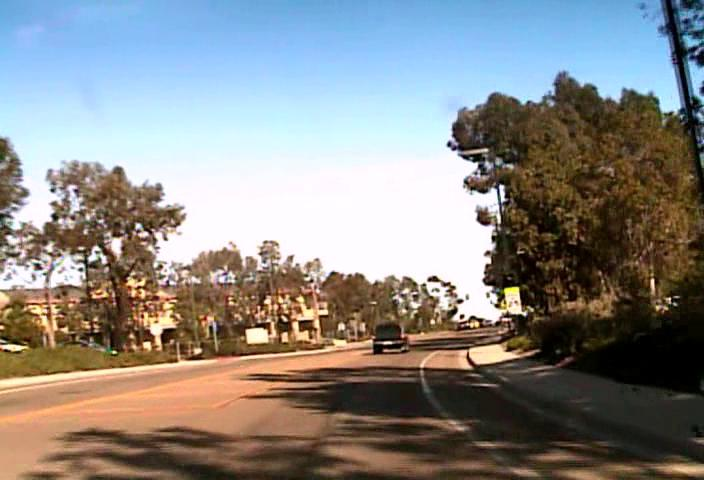schoolSpeedLimit25: (503, 285, 522, 314)
